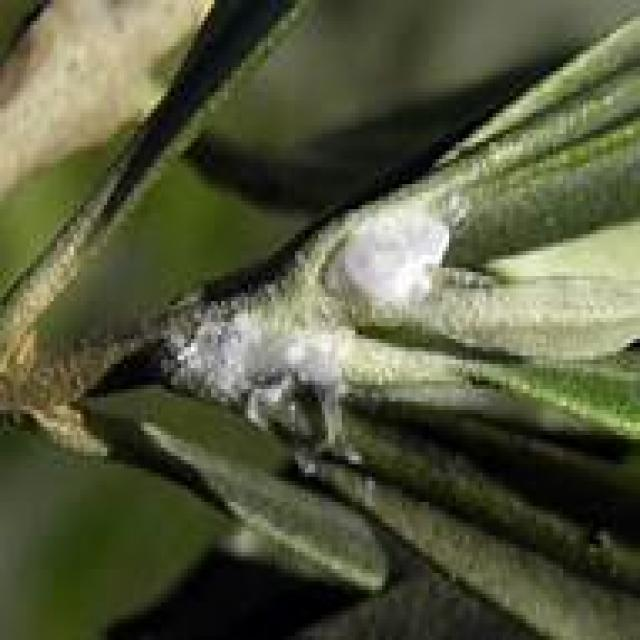Psyllid: (164, 301, 359, 473), (322, 201, 459, 326)
